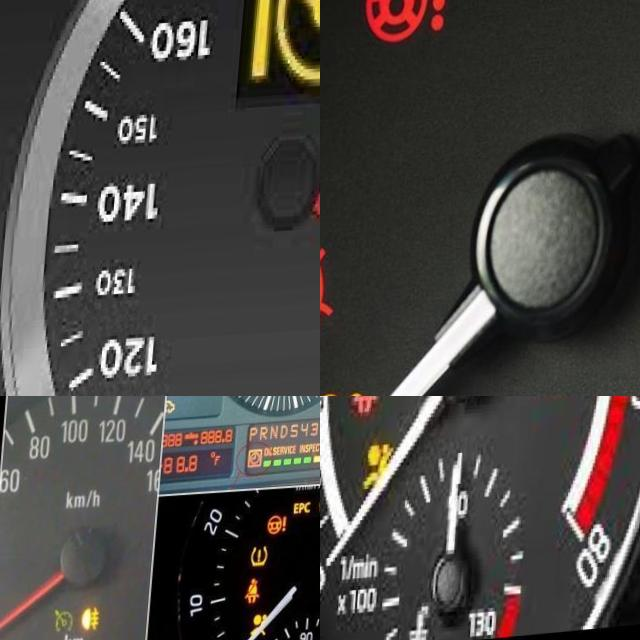Electronic Power Steering: (243, 0, 320, 97), (357, 0, 455, 43), (270, 521, 291, 542)
Seat Belt: (320, 241, 344, 339), (359, 396, 386, 417), (249, 583, 265, 610)
